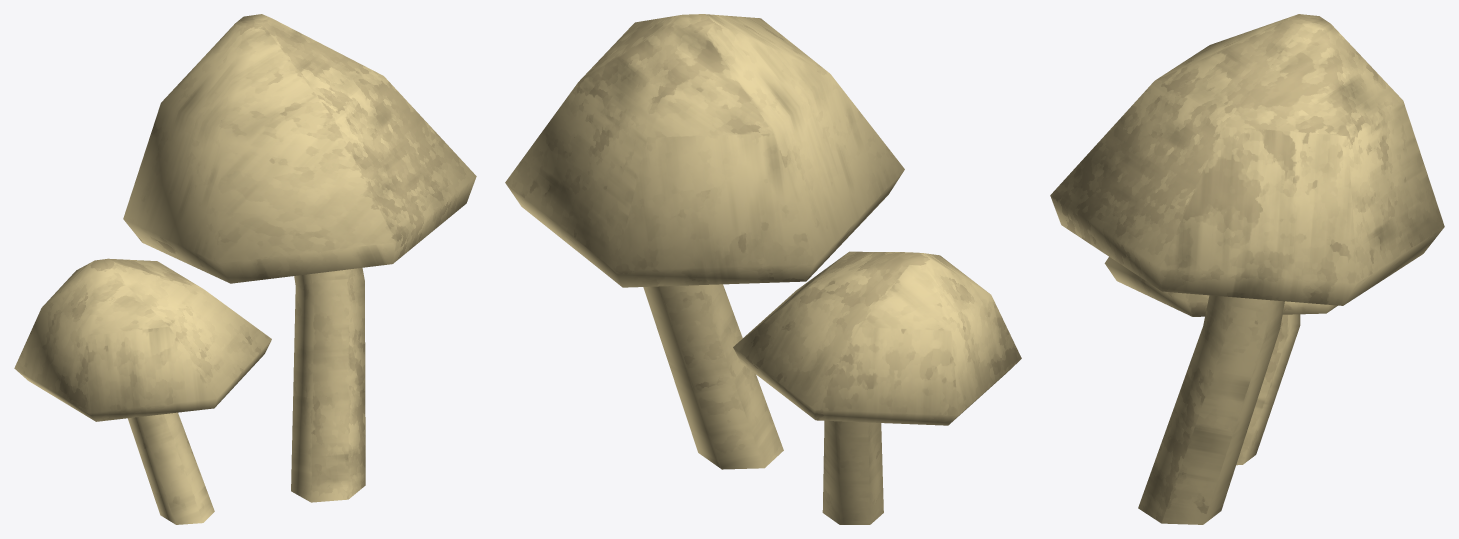
File: art_3D model_environment_inocybe.fbx
The picture shows the model from 3 angles, left to right: view 1: azimuth 30°, elevation 25°; view 2: azimuth 150°, elevation 25°; view 3: azimuth 270°, elevation 25°; orthographic projection. The views are drawn at different scales.
Visible parts, largest first — view 1: Cylinder; view 2: Cylinder; view 3: Cylinder.
Part boxes in pixels (left/top/right/bottom): Cylinder: left=14, top=14, right=476, bottom=524; Cylinder: left=505, top=14, right=1021, bottom=524; Cylinder: left=1050, top=14, right=1444, bottom=524.
Bounding box in the file's own units: 13.3 × 14.29 × 10.33.
1 material, 1 textured.
